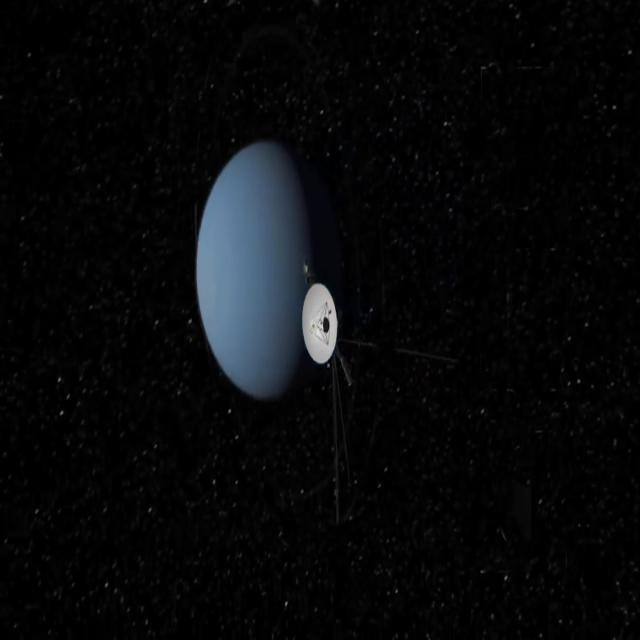satellite: (290, 254, 357, 386)
